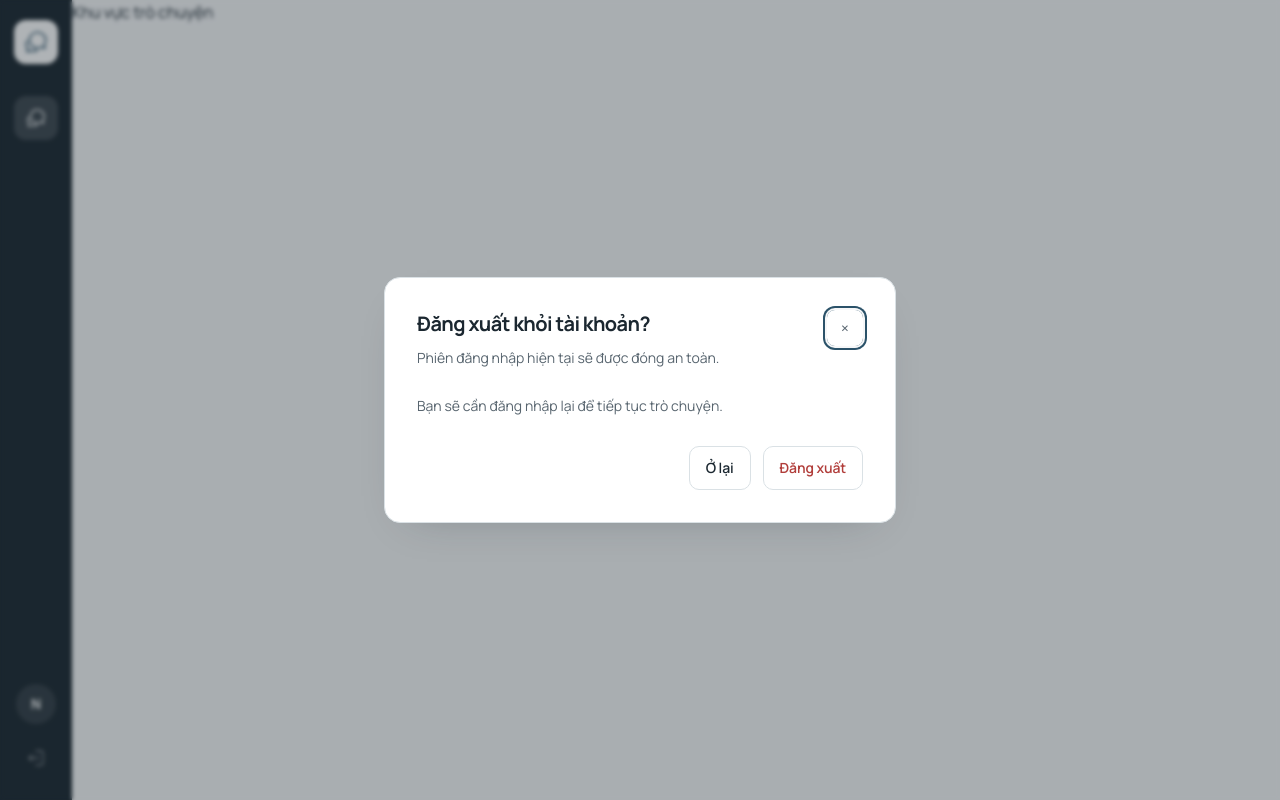
Test: keeps the session active when refresh-token revocation fails
The width and height of the screenshot is (1280, 800).
Earlier steps of the test are not shown.
Click the button "Đăng xuất".
click(813, 468)  # box [763, 446, 863, 490]
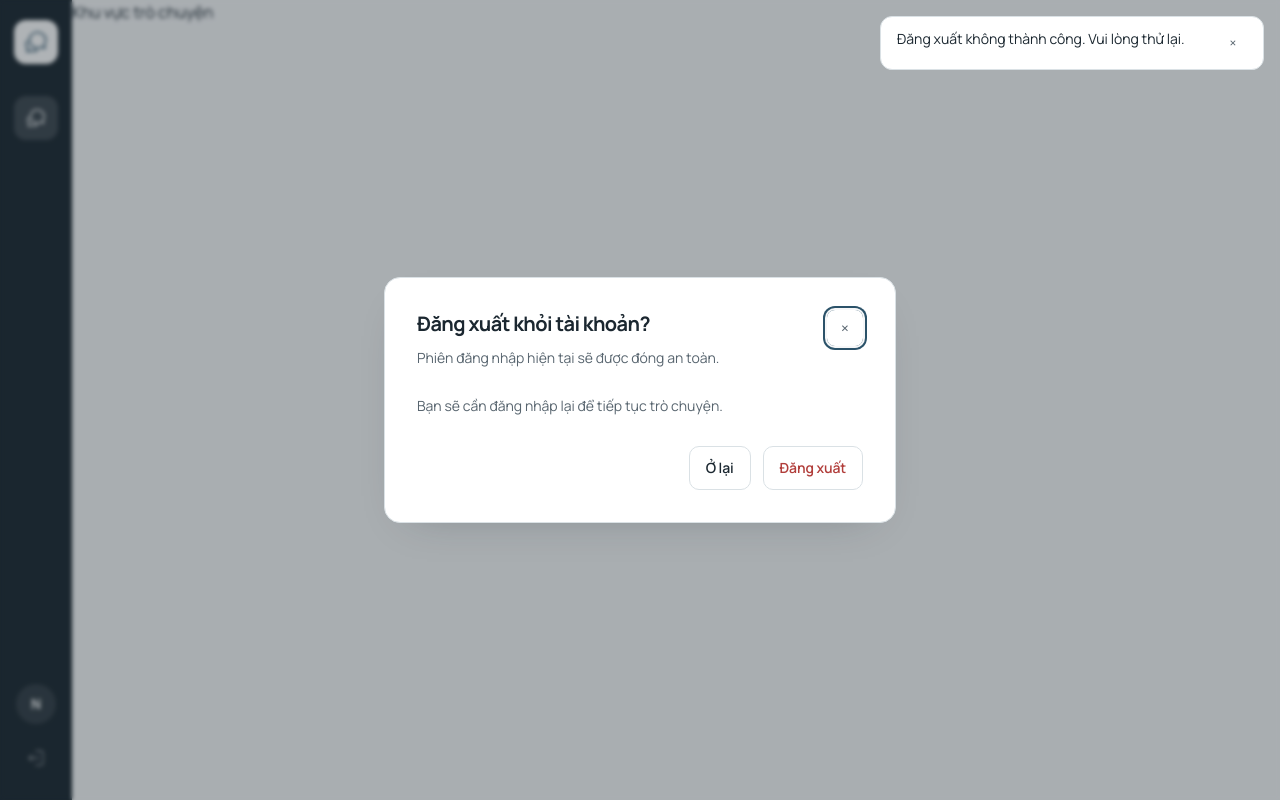
Check: the text "Đăng xuất không thành công. Vui lòng thử lại." is shown, box [897, 29, 1184, 49]
